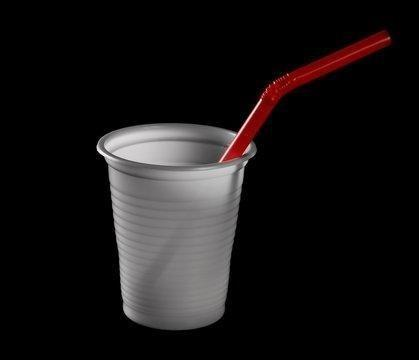cup-disposable: (95, 119, 258, 333)
